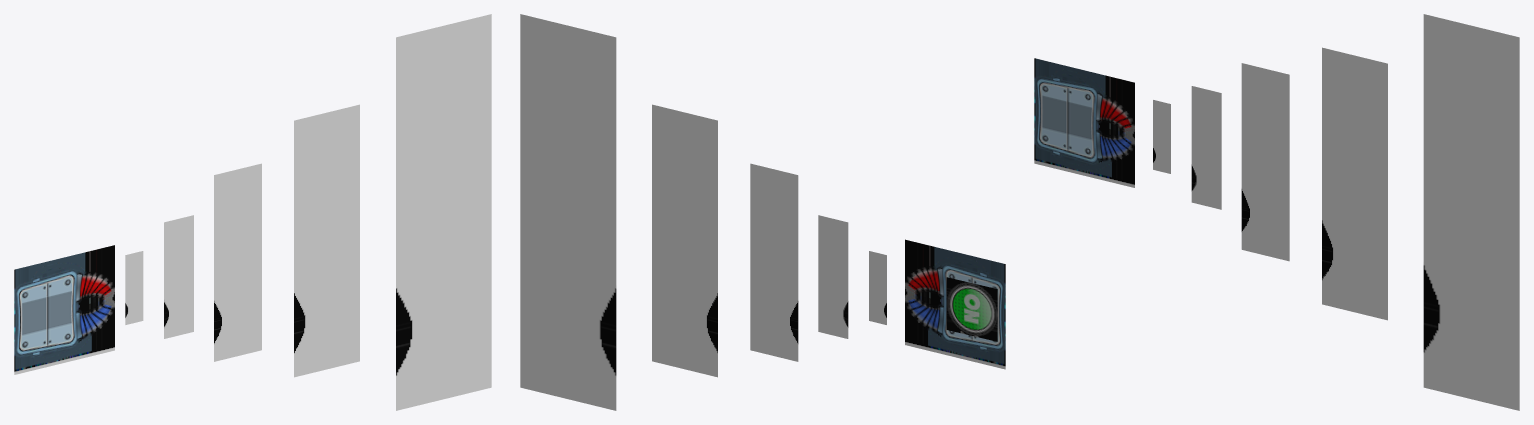
Rendered from electromagnet.glb.
The picture shows the model from 3 angles, left to right: view 1: azimuth 30°, elevation 25°; view 2: azimuth 150°, elevation 25°; view 3: azimuth 330°, elevation 25°; orthographic projection.
Visible parts, largest first — view 1: wave_3, wave_4, electromagnet, wave_5, wave_6, wave_7; view 2: wave_3, wave_4, wave_5, electromagnet, wave_6, electromagnet_btn, wave_7; view 3: wave_3, wave_4, electromagnet, wave_5, wave_6, wave_7.
Boxes of the visible parts, x1,y1,x2,y2 form: wave_3: [396, 14, 491, 410]; wave_4: [294, 104, 359, 377]; electromagnet: [14, 245, 114, 374]; wave_5: [214, 163, 261, 361]; wave_6: [164, 215, 193, 338]; wave_7: [125, 251, 143, 324]; wave_3: [520, 14, 616, 410]; wave_4: [652, 104, 717, 377]; wave_5: [750, 163, 798, 361]; electromagnet: [905, 239, 1005, 369]; wave_6: [818, 215, 848, 338]; electromagnet_btn: [946, 277, 997, 341]; wave_7: [869, 251, 886, 324]; wave_3: [1423, 14, 1519, 410]; wave_4: [1322, 47, 1387, 320]; electromagnet: [1034, 58, 1134, 187]; wave_5: [1241, 63, 1289, 261]; wave_6: [1191, 86, 1221, 209]; wave_7: [1153, 100, 1170, 173].
Bounding box in the file's own units: 367 × 272 × 5.
1 material, 1 textured.
